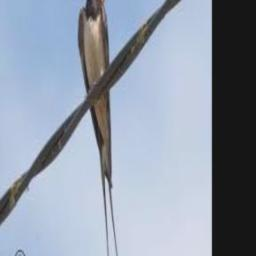Swallow: (78, 0, 119, 256)
